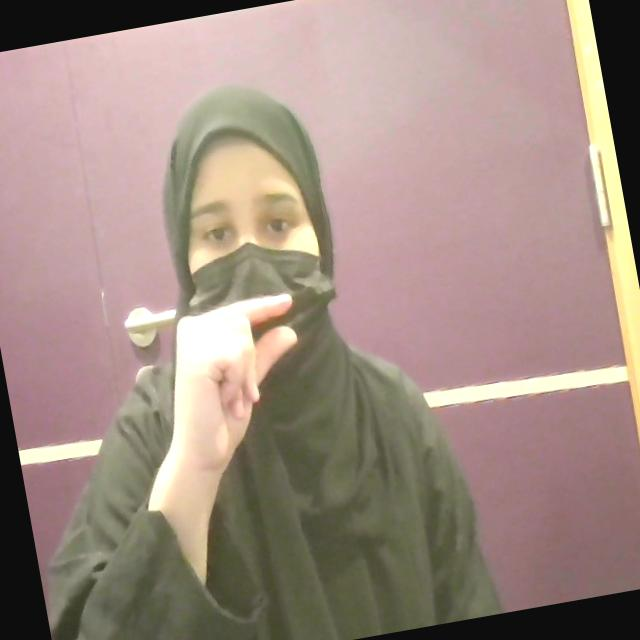fasting: (152, 283, 326, 477)
